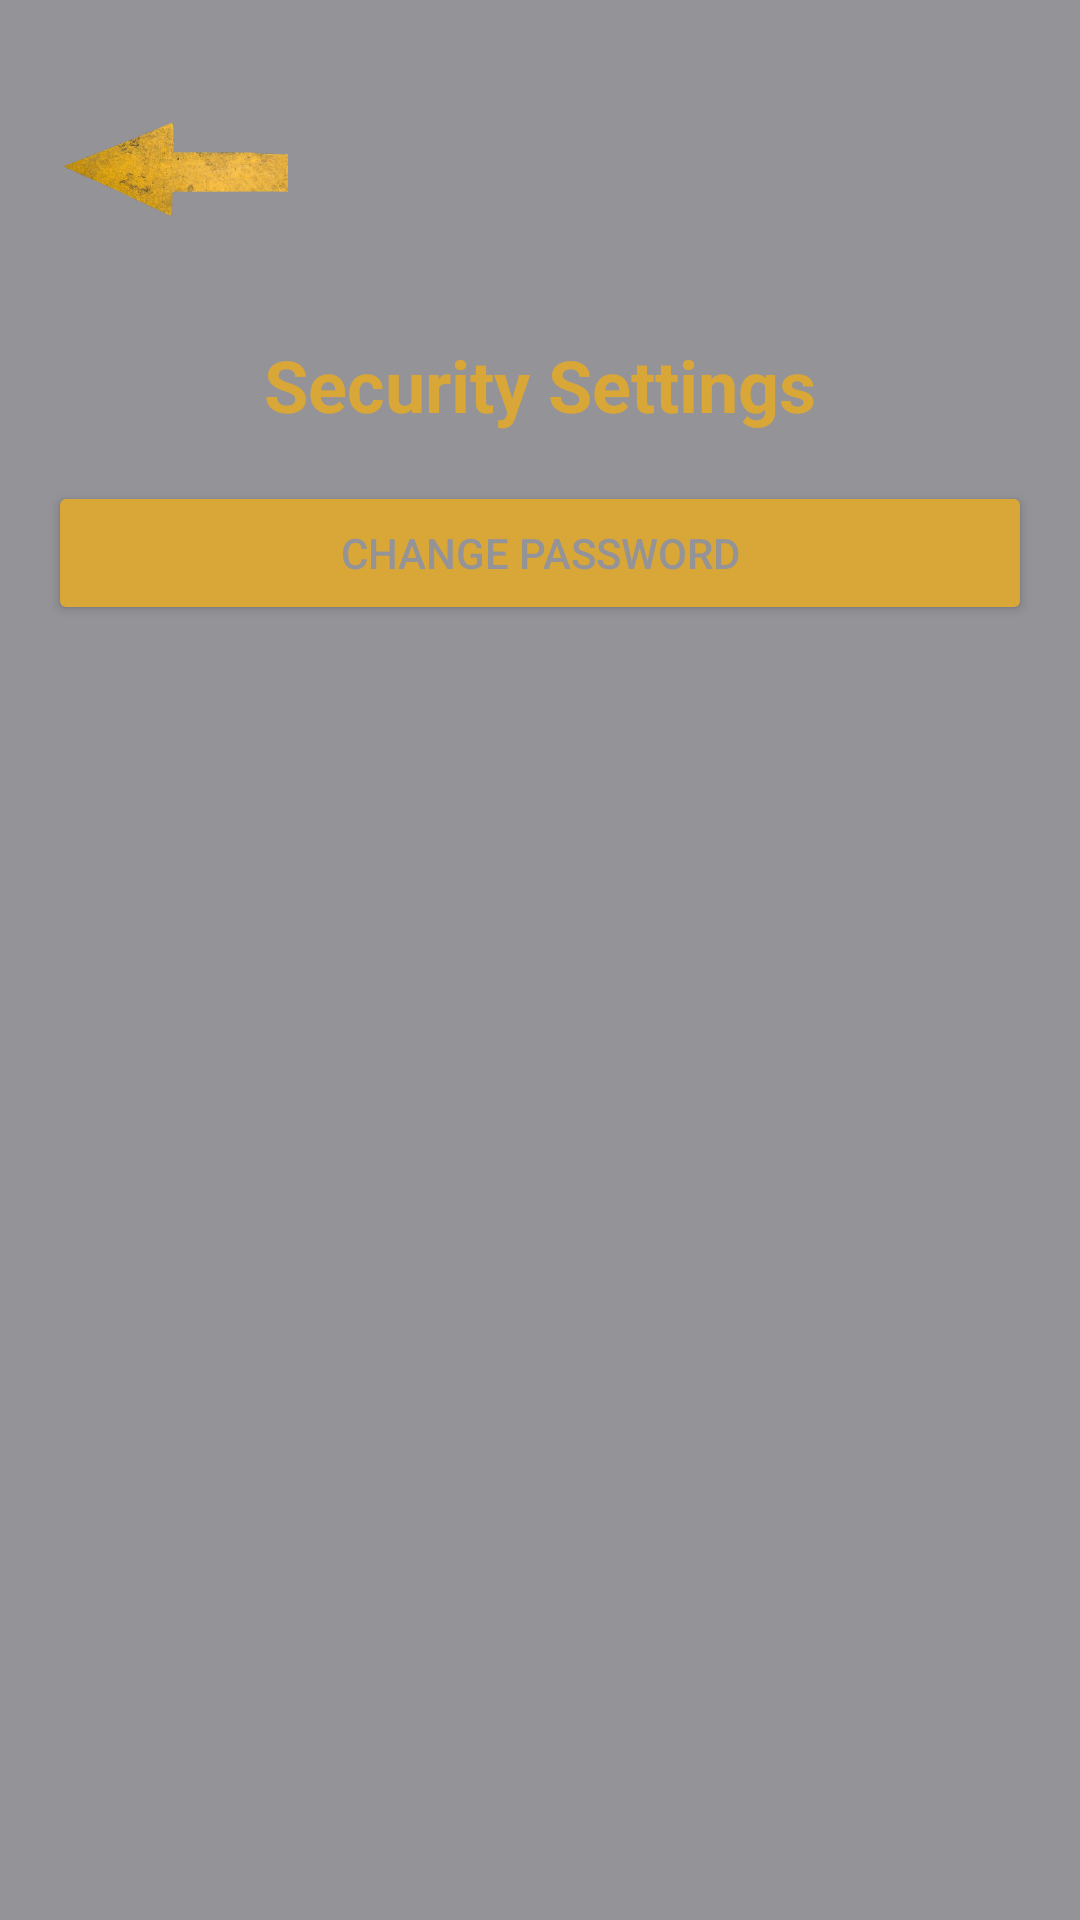

Screen size 1080px×1920px. Icon name, then its center in pixels as (x=x, y=y):
back: (x=176, y=169)
